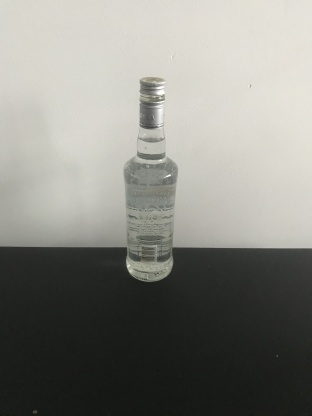nakretka: (138, 76, 166, 128)
